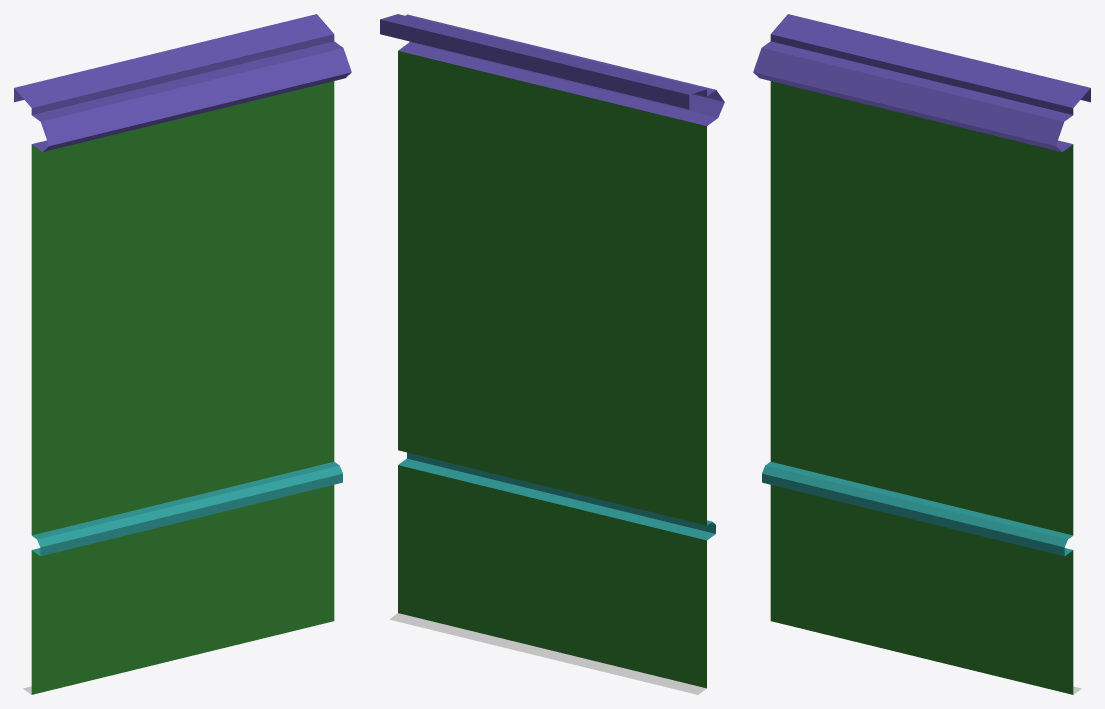
The model's file is R_2x4_noWindows.fbx.
3 views of the same model, side by side, from view 1: azimuth 30°, elevation 25°; view 2: azimuth 150°, elevation 25°; view 3: azimuth 330°, elevation 25° (orthographic). The views are drawn at different scales.
Parts seen in each view (by area): view 1: R_2x4_noWindows; view 2: R_2x4_noWindows; view 3: R_2x4_noWindows.
Boxes of the visible parts, box(x1,y1,x2,y2) form: R_2x4_noWindows: box(14, 14, 351, 694); R_2x4_noWindows: box(380, 14, 724, 694); R_2x4_noWindows: box(753, 14, 1090, 694).
Size of the model in its own units: 143 by 269 by 28.7.
